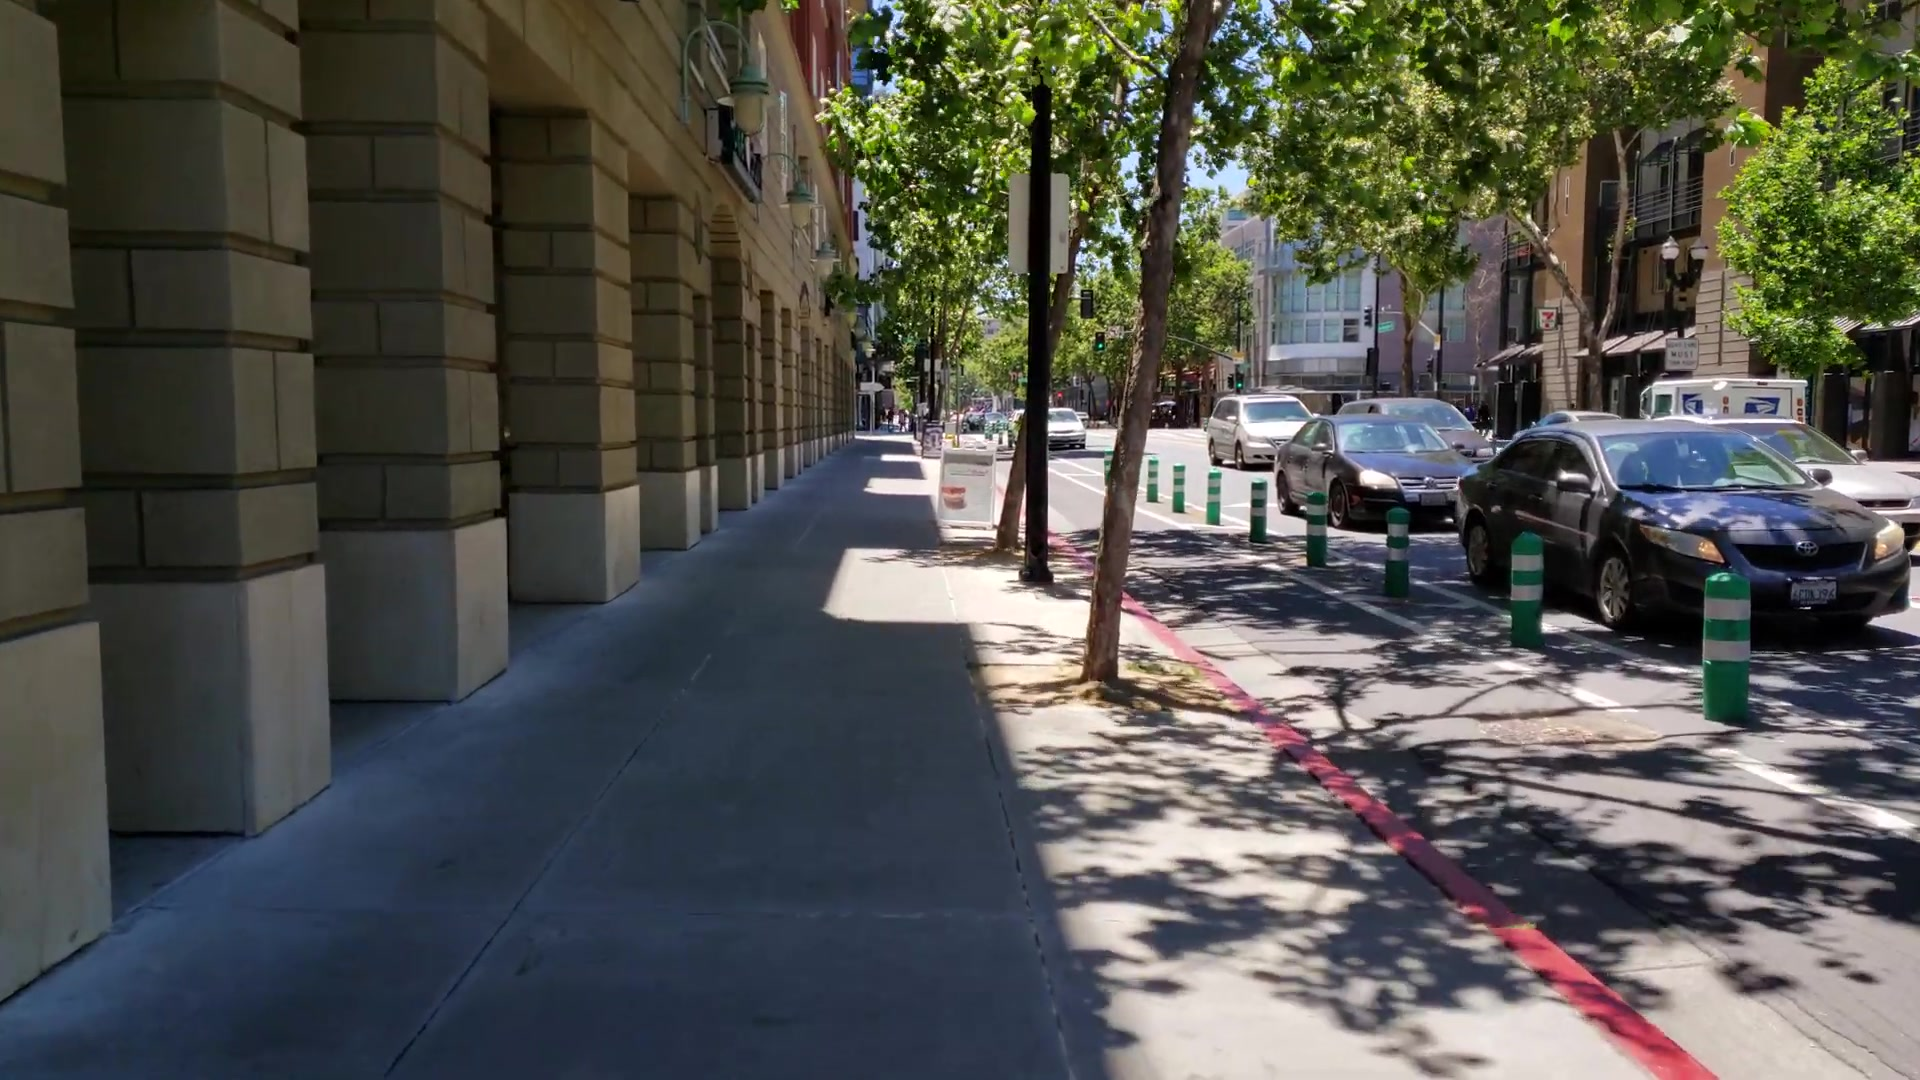vehicle: (1457, 422, 1912, 632), (1274, 419, 1472, 524)
